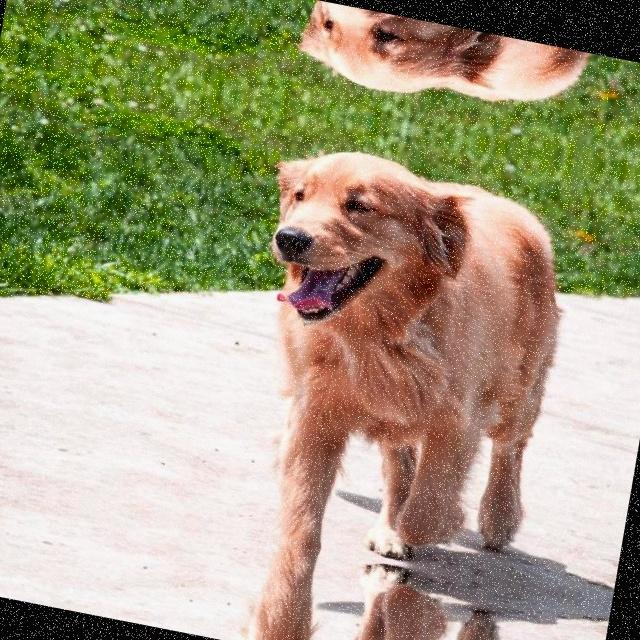dog: (210, 133, 586, 586), (287, 0, 610, 134), (192, 526, 520, 640)
